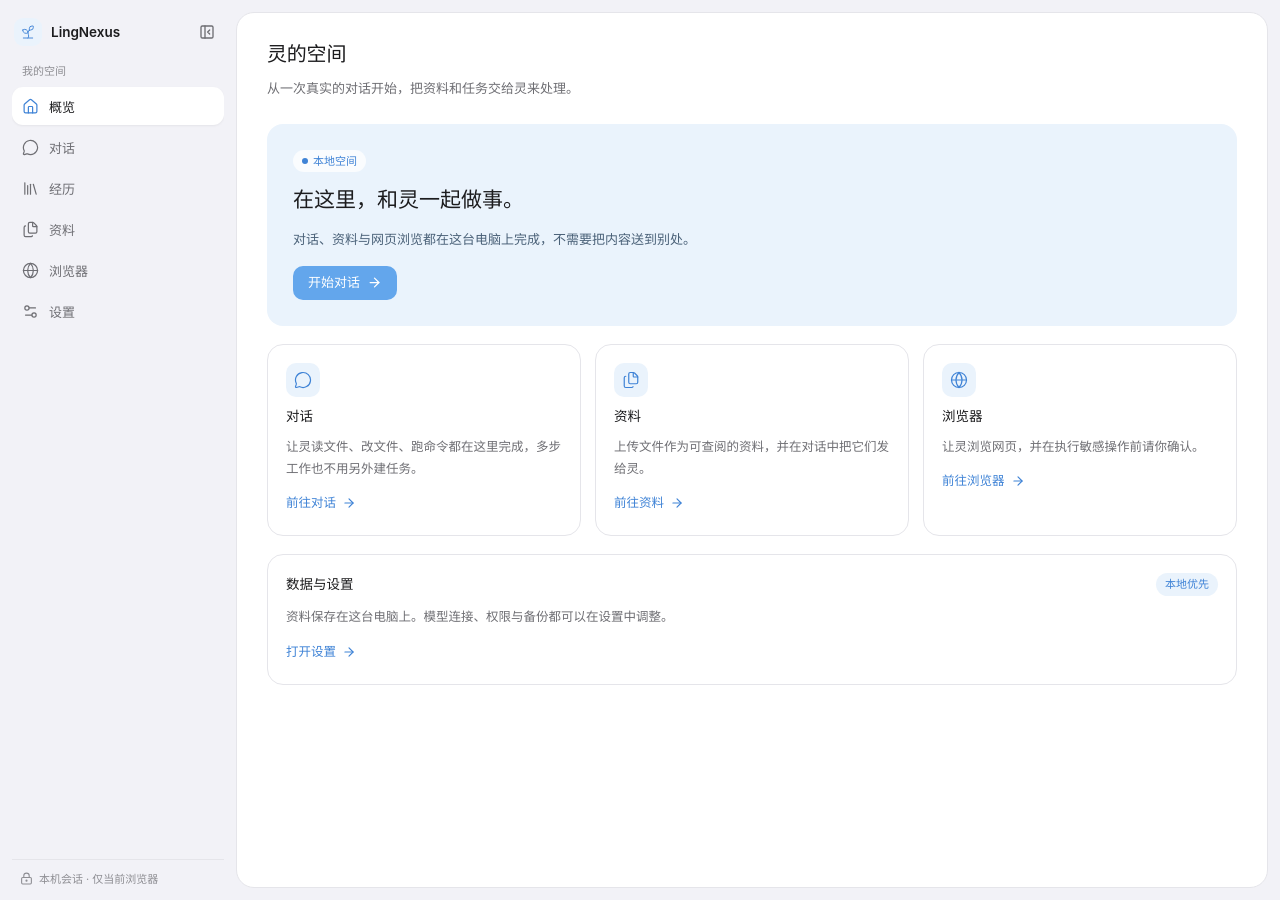
the sidebar no longer lists chats and offers no way to create one
Click the button "对话": [118, 147] box [12,128,224,166]
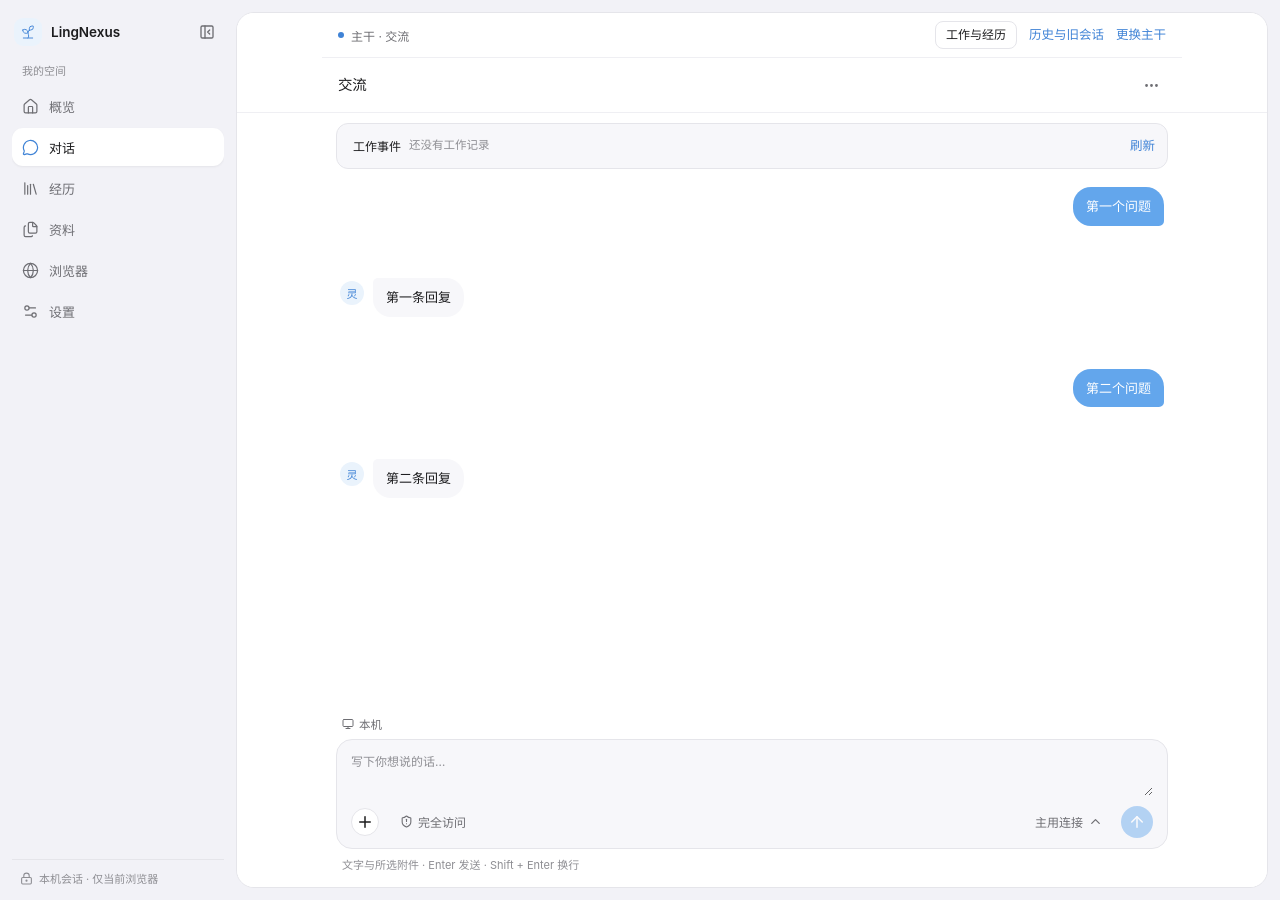
Check: the navigation bar named "主要导航" is shown, box [12,64,224,330]
Check: the text "第一条回复" is shown, box [373,278,464,317]
